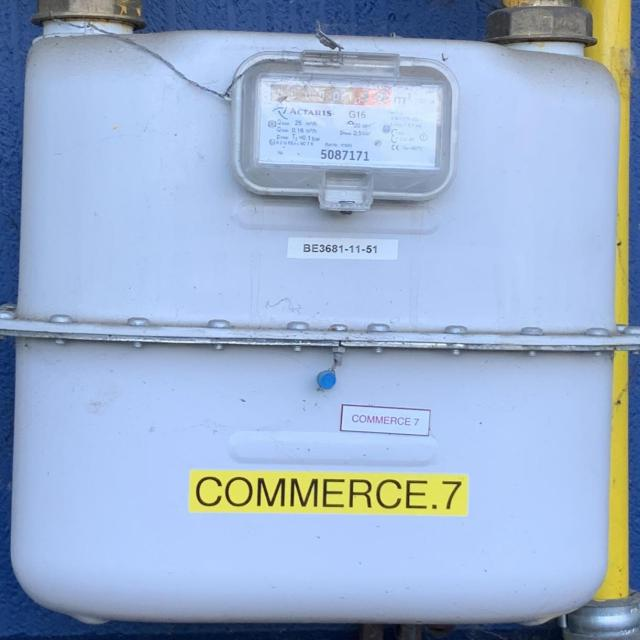gaz_meter: (255, 68, 443, 174)
indication: (270, 82, 392, 107)
